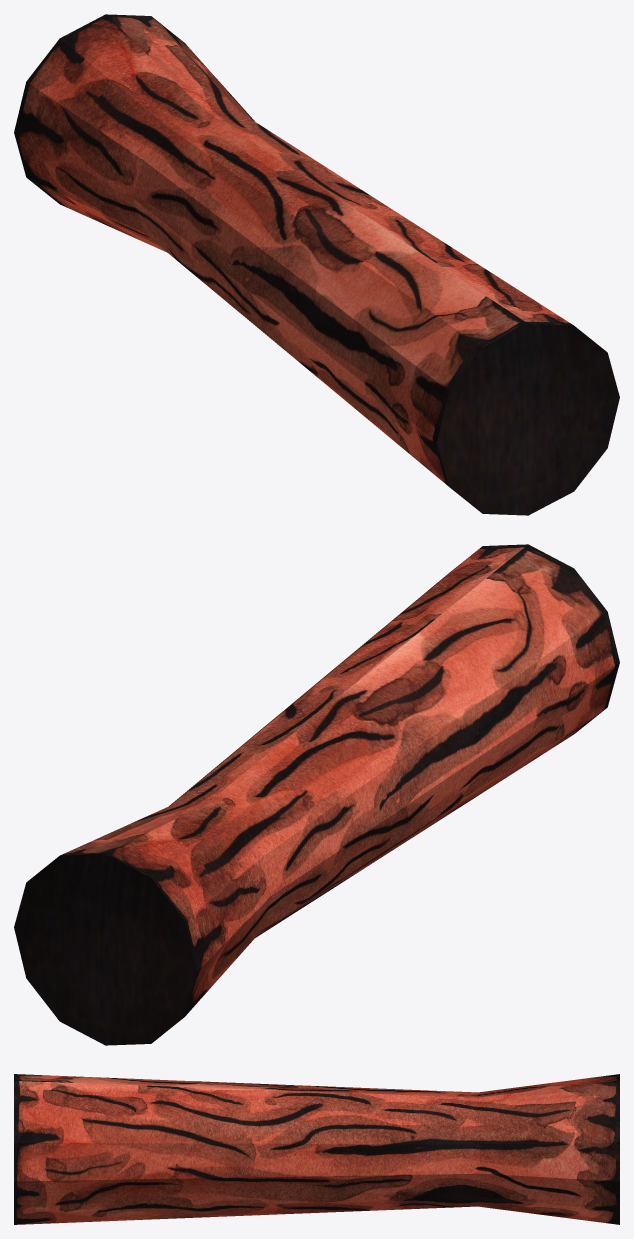
Rendered from log.glb.
3 views of the same model, one above another, from view 1: azimuth 30°, elevation 25°; view 2: azimuth 150°, elevation 25°; view 3: azimuth 270°, elevation 25° (orthographic). The views are drawn at different scales.
Parts seen in each view (by area): view 1: Log; view 2: Log; view 3: Log.
Boxes of the visible parts, x1,y1,x2,y2 form: Log: (14, 14, 619, 515); Log: (14, 544, 619, 1045); Log: (14, 1074, 619, 1224).
Size of the model in its own units: 1 by 1 by 4.
1 material, 1 textured.
